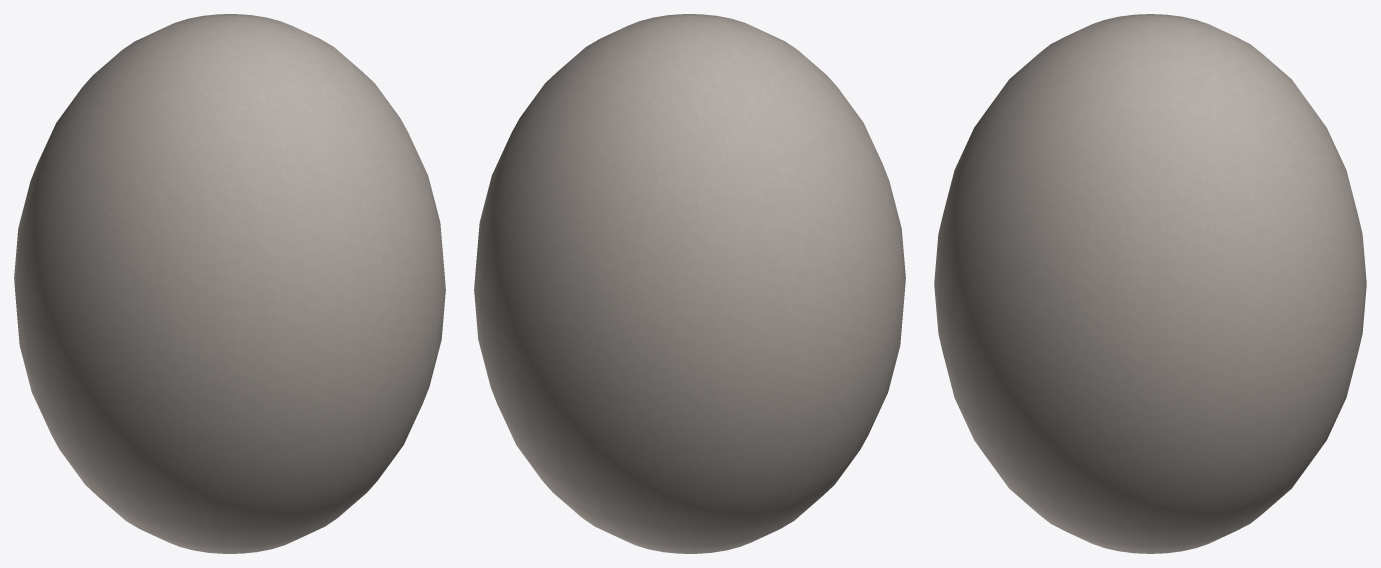
The model's file is egg.glb.
3 views of the same model, side by side, from view 1: azimuth 30°, elevation 25°; view 2: azimuth 150°, elevation 25°; view 3: azimuth 270°, elevation 25° (orthographic).
Parts seen in each view (by area): view 1: Sphere; view 2: Sphere; view 3: Sphere.
Boxes of the visible parts, left/top/right/bottom form: Sphere: left=14, top=14, right=445, bottom=553; Sphere: left=474, top=14, right=905, bottom=553; Sphere: left=934, top=14, right=1366, bottom=553.
Bounding box in the file's own units: 8.8 × 11.42 × 8.8.
1 material, 1 textured.
